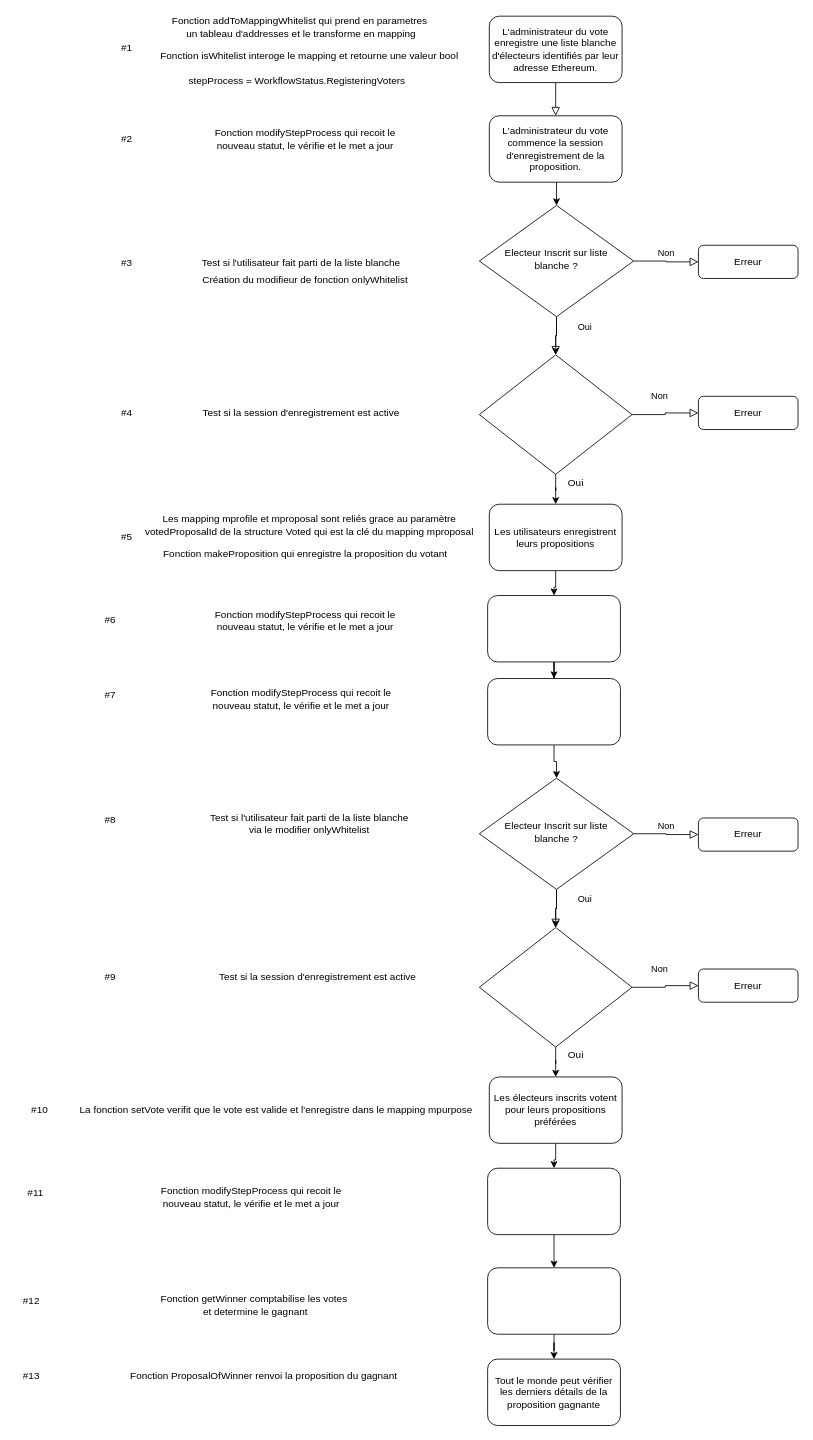
Some shapes in this 813 by 1440 pixel diagram are drawn without their labels. Each missing label, with the centre of its shape:
L'administrateur de vote met fin à la session d'enregistrement des propositions: pixel 553 628
L'administrateur du vote commence la session de vote: pixel 553 711
L'administrateur du vote comptabilise les votes: pixel 553 1300
L'administrateur du vote met fin a la session de vote: pixel 553 1201
Session d'enregistrement active ?: pixel 555 414
Session de vote active ?: pixel 555 987
